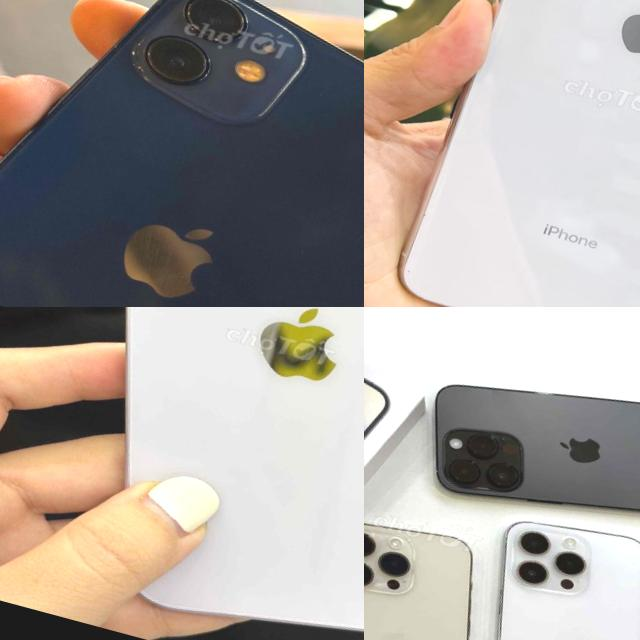gen_12_13: (0, 0, 364, 307)
gen_14: (0, 307, 364, 640), (451, 497, 640, 640), (364, 486, 514, 640)
gen_x_xs: (386, 0, 640, 307)
